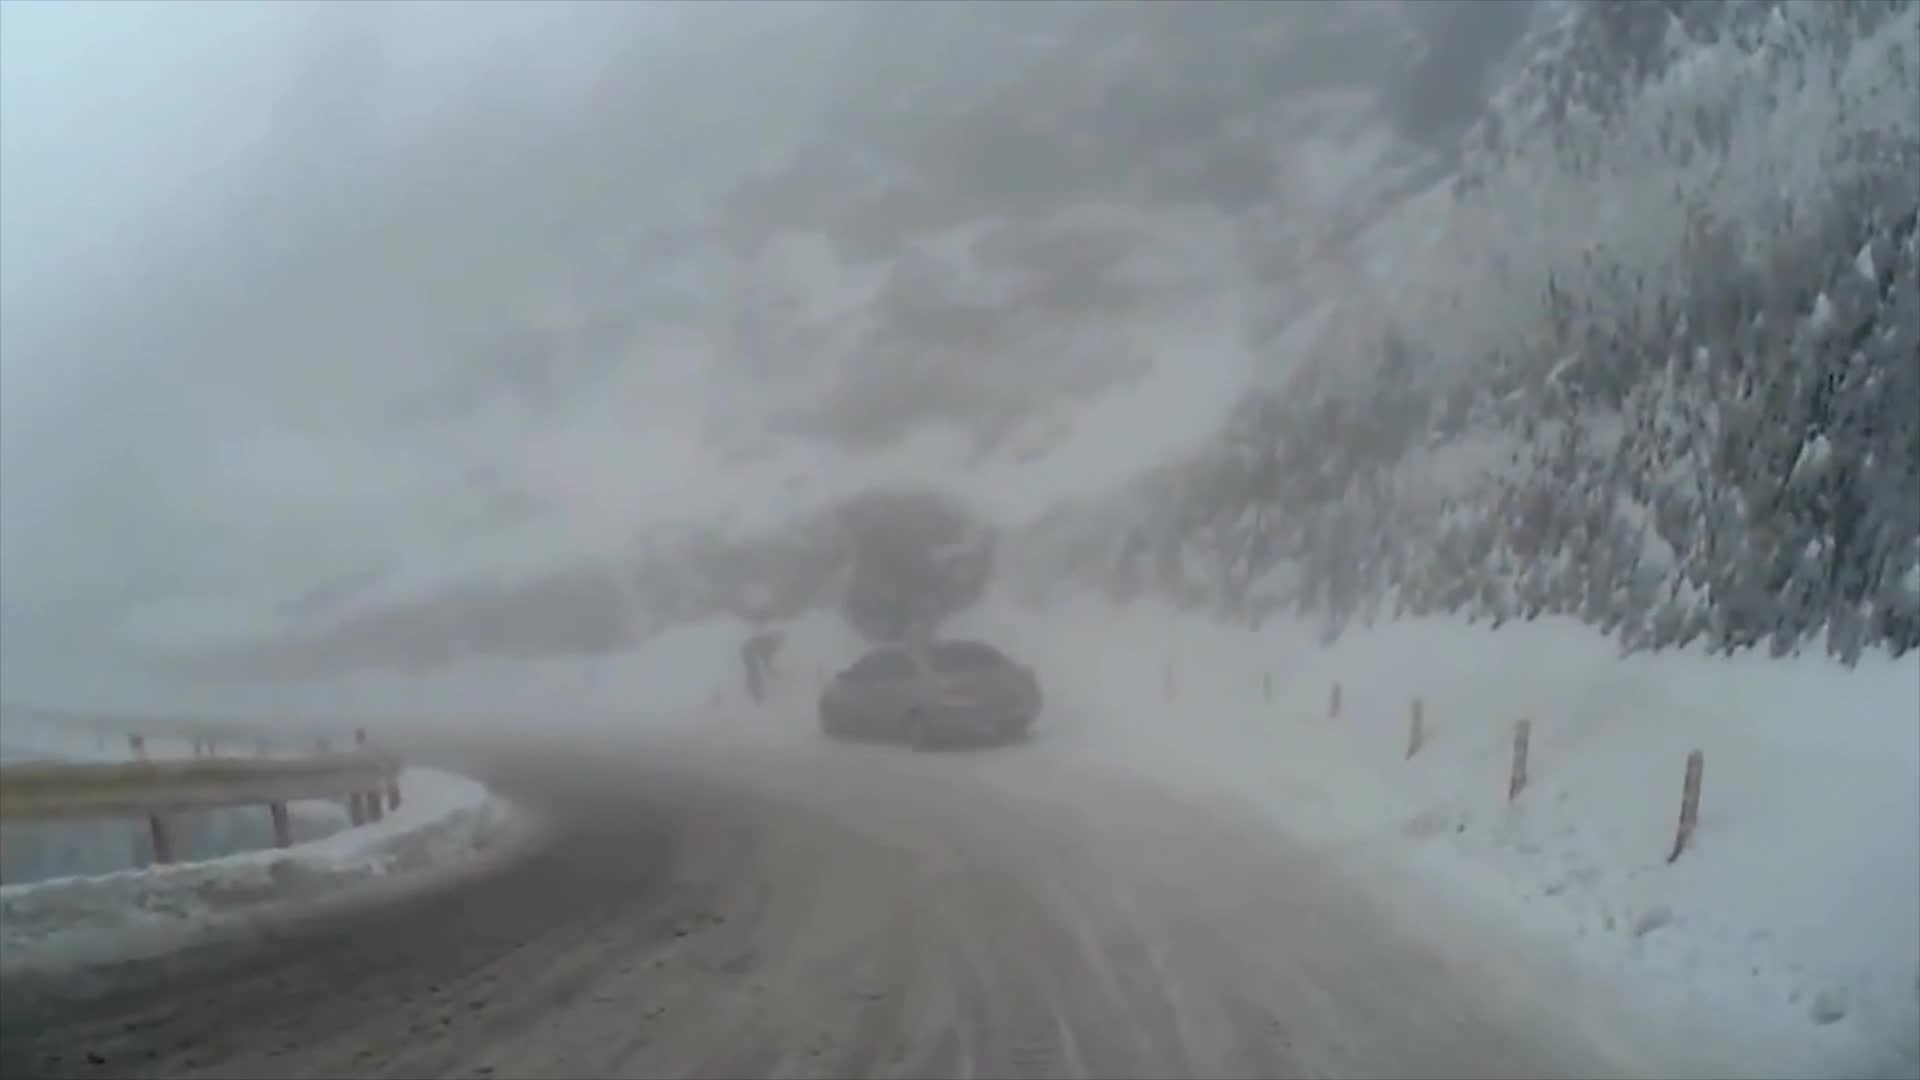pedestrian: (743, 634, 787, 704)
vehicle: (815, 639, 1040, 755)
